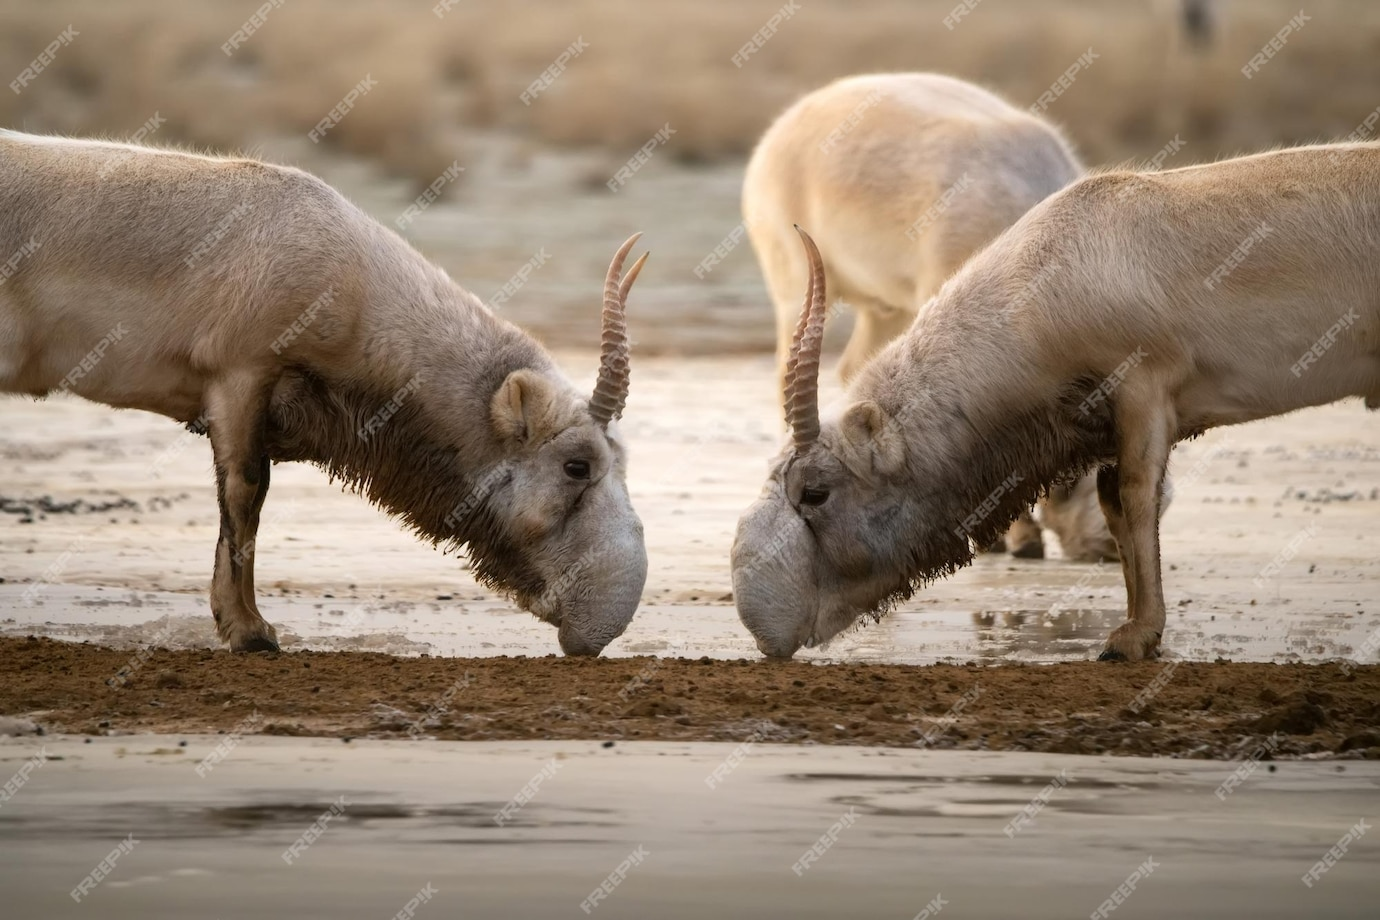saiga: (2, 118, 653, 663), (729, 140, 1380, 681)
